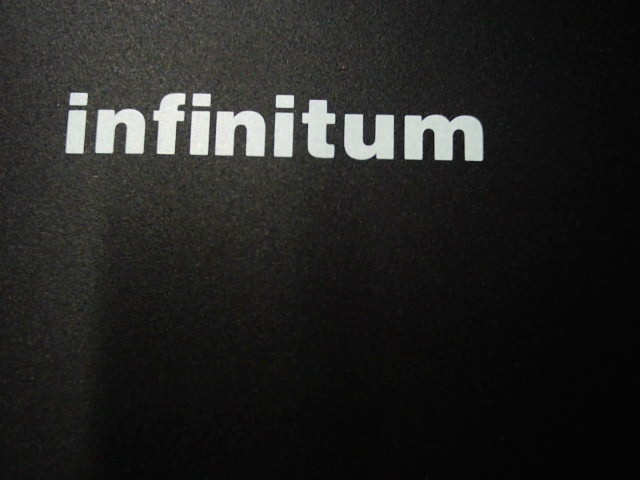BK_infinitum: (57, 78, 496, 177)
